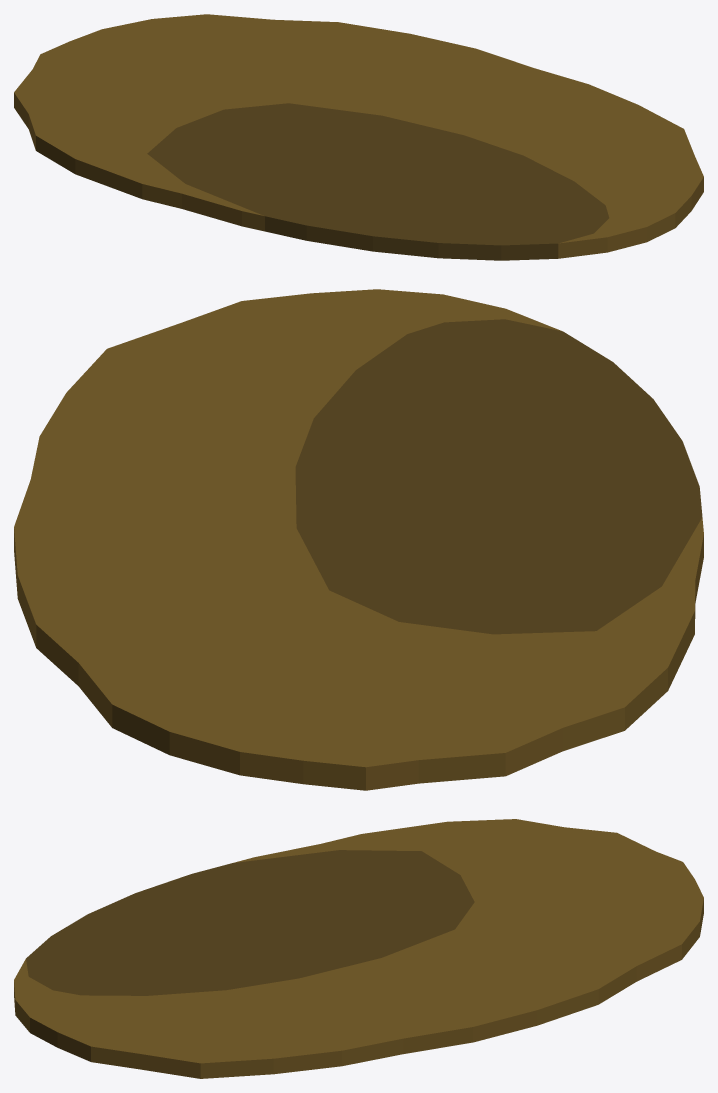
The model's file is Mud.fbx.
The picture shows the model from 3 angles, top to bottom: view 1: azimuth 30°, elevation 25°; view 2: azimuth 150°, elevation 25°; view 3: azimuth 270°, elevation 25°; orthographic projection. The views are drawn at different scales.
Parts seen in each view (by area): view 1: Mud; view 2: Mud; view 3: Mud.
Boxes of the visible parts, x1=… form: Mud: x1=14, y1=14, x2=703, y2=260; Mud: x1=14, y1=289, x2=703, y2=790; Mud: x1=14, y1=819, x2=703, y2=1078.
Bounding box in the file's own units: 445 × 13.22 × 531.
